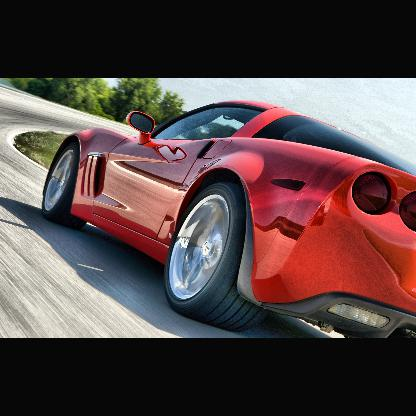Chevrolet Corvette Convertible 2012: (43, 99, 416, 337)
